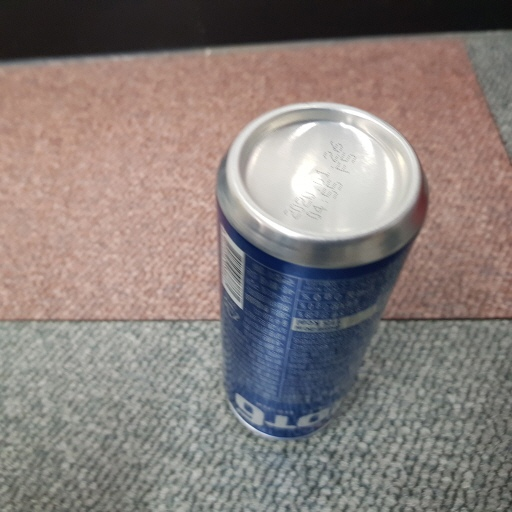Metal_0: (215, 100, 430, 441)
